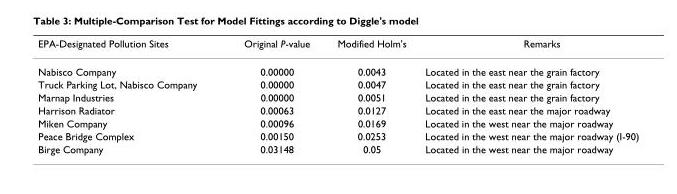table: (37, 37, 638, 154)
table column: (415, 37, 638, 154), (37, 37, 219, 154), (219, 37, 322, 154), (322, 37, 415, 154)
table column header: (37, 37, 638, 57)
table row: (37, 37, 638, 57), (37, 57, 638, 77), (37, 77, 638, 90), (37, 90, 638, 103), (37, 103, 638, 116), (37, 116, 638, 129), (37, 129, 638, 142), (37, 142, 638, 154)
